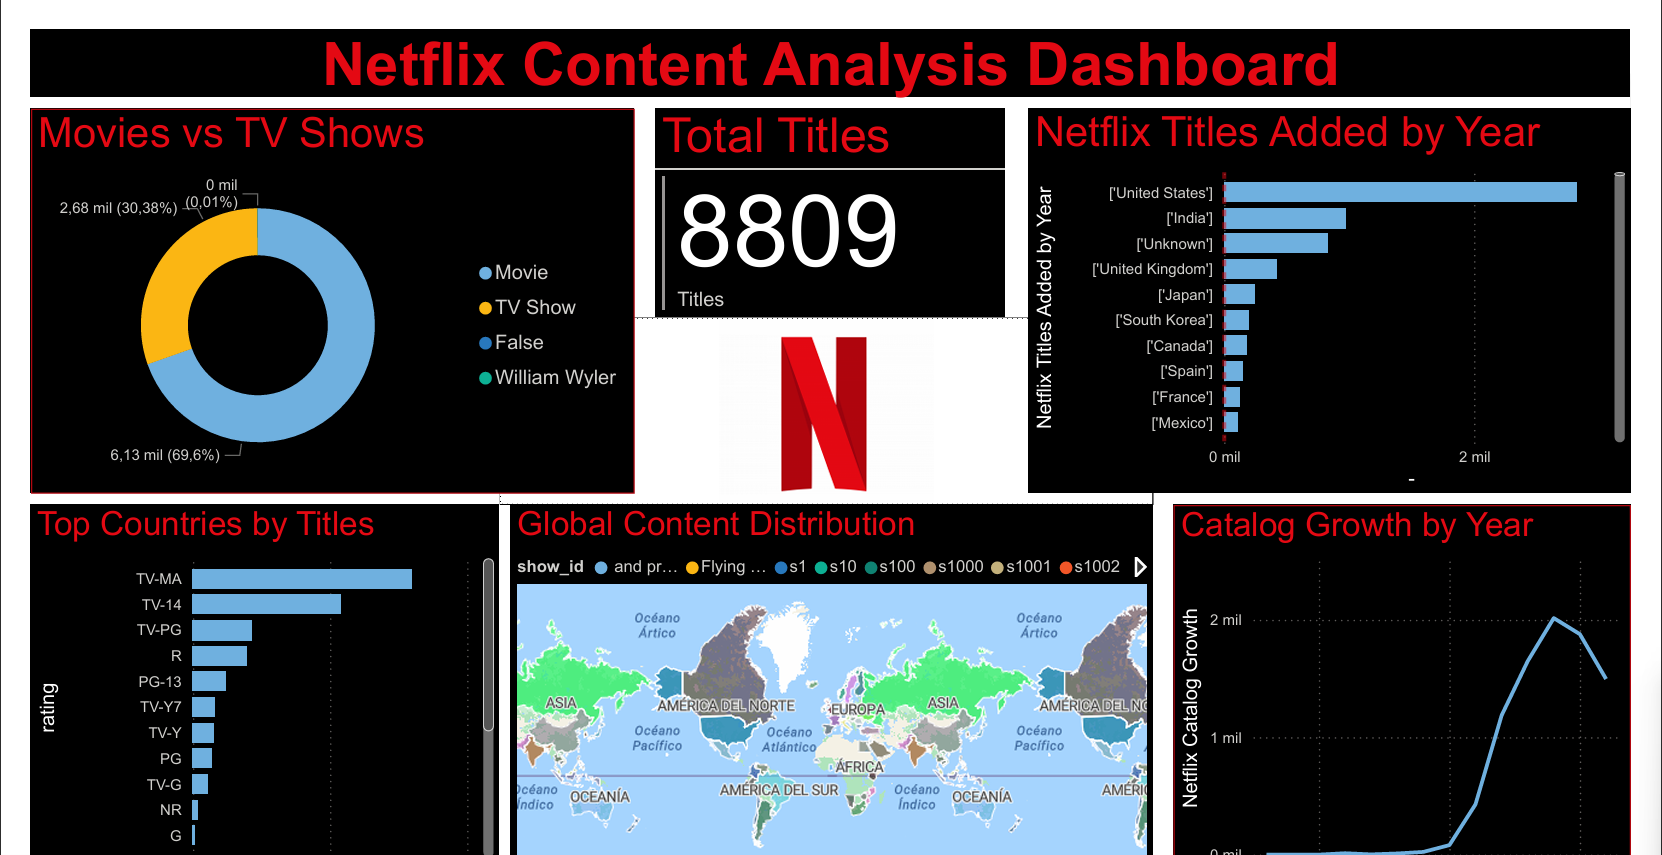

This screenshot's page, from the dashboard's own definition file:
{"tool":"powerbi","page":{"name":"Página 1","canvas":[1280,720],"ordinal":0},"visuals":[{"type":"image","box":[375,230,522.5,150],"z":0},{"type":"multiRowCard","title":"Total Titles","fields":{"Values":["Count(netflix_clean.show_id)"]},"box":[500,62.5,280,167.5],"z":1000},{"type":"donutChart","title":"Movies vs TV Shows","fields":{"Category":["netflix_clean.type"],"Y":["Count(netflix_clean.show_id)"]},"box":[0,62.5,482.5,308.8],"z":2000},{"type":"lineChart","title":"Catalog Growth by Year","fields":{"Category":["netflix_clean.date_added.Variación.Jerarquía de fechas.Año"],"Y":["CountNonNull(netflix_clean.show_id)"]},"box":[913.8,380,366.2,322.5],"z":3000},{"type":"barChart","title":"Netflix Titles Added by Year","fields":{"Category":["netflix_clean.country_clean"],"Y":["CountNonNull(netflix_clean.show_id)"]},"box":[797.5,62.5,482.5,308.8],"z":4000},{"type":"barChart","title":"Top Countries by Titles","fields":{"Category":["netflix_clean.rating"],"Y":["CountNonNull(netflix_clean.show_id)"]},"box":[0,380,375,322.5],"z":5000},{"type":"azureMap","title":"Global Content Distribution","fields":{"Category":["netflix_clean.country"],"Series":["netflix_clean.show_id"]},"box":[383.8,380,513.8,322.5],"z":6000},{"type":"textbox","title":"Netflix Content Analysis Dashboard","box":[0,0,1280,53.8],"z":7000}]}

Visuals, with their boxes on the page's 1280x720 design canvas (x1, y1, x2, y2). These are canvas units, not pixel positions in the 1662x855 screenshot, which may show the page scaled, cropped or inside an application window:
image: (375,230,898,380)
"Total Titles" multiRowCard: (500,62,780,230)
"Movies vs TV Shows" donutChart: (0,62,482,371)
"Catalog Growth by Year" lineChart: (914,380,1280,702)
"Netflix Titles Added by Year" barChart: (798,62,1280,371)
"Top Countries by Titles" barChart: (0,380,375,702)
"Global Content Distribution" azureMap: (384,380,898,702)
"Netflix Content Analysis Dashboard" textbox: (0,0,1280,54)
